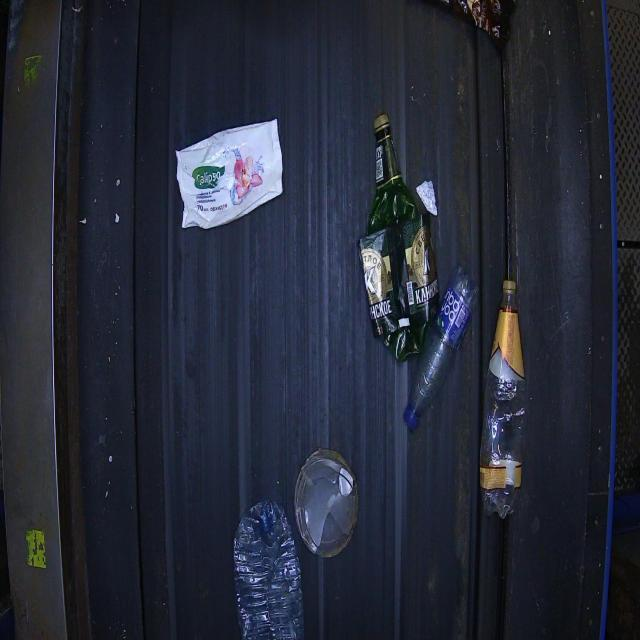bottles: (358, 110, 441, 361), (478, 279, 526, 518)
cups: (293, 447, 358, 558)
other-trash: (231, 498, 304, 639)
paper: (174, 117, 283, 229)
